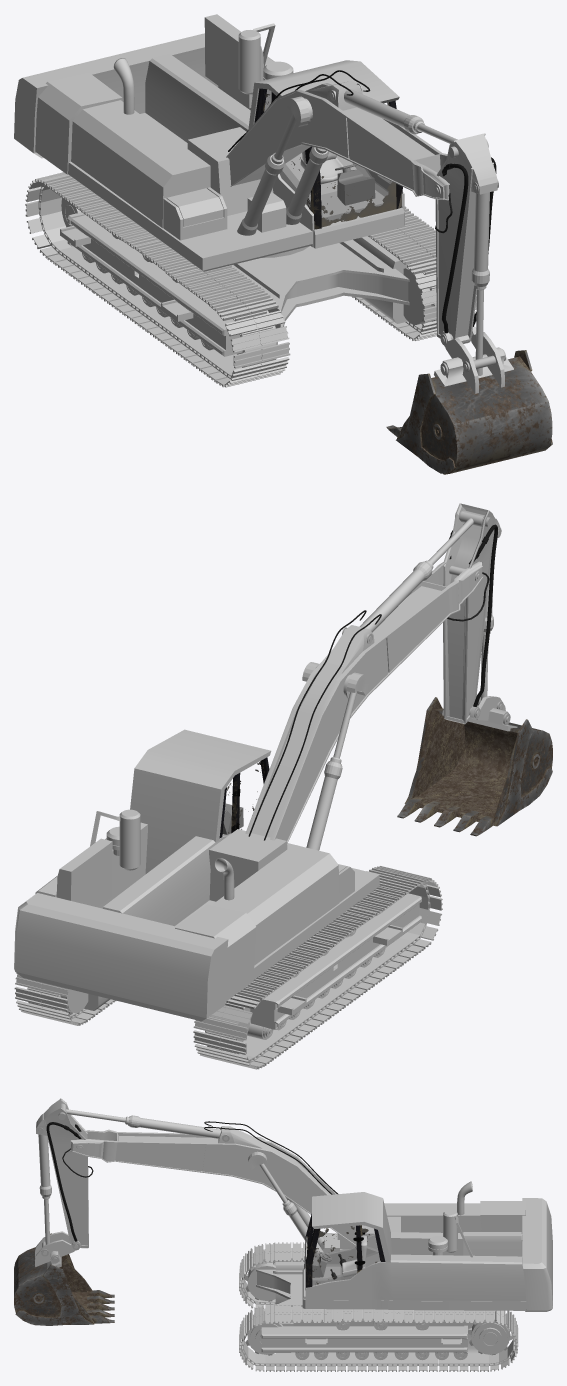
3 renders of one model, top to bottom at view 1: azimuth 30°, elevation 25°; view 2: azimuth 150°, elevation 25°; view 3: azimuth 270°, elevation 25°, orthographic. The views are drawn at different scales.
Visible parts, largest first — view 1: poclain:pCube93, poclain:tire1_pCylinder26, poclain:pCube14, poclain:pCube5, poclain:pCube97, poclain:polySurface828, poclain:polySurface834, poclain:tire1_pCylinder25, poclain:polySurface821, poclain:polySurface826, poclain:pCube20, poclain:pPlane1 (+18 smaller); view 2: poclain:tire1_pCylinder26, poclain:pCube97, poclain:pCube93, poclain:pCube5, poclain:pCube14, poclain:polySurface821, poclain:polySurface834, poclain:pCube20, poclain:polySurface826, poclain:tire1_pCylinder25, poclain:polySurface818, poclain:polySurface819 (+3 smaller); view 3: poclain:tire1_pCylinder25, poclain:pCube93, poclain:pCube5, poclain:pCube14, poclain:polySurface834, poclain:pCube97, poclain:polySurface821, poclain:tire1_pCylinder26, poclain:pCube20, poclain:polySurface828, poclain:pCube96, poclain:polySurface819 (+10 smaller).
Part boxes in pixels (x1=…): poclain:pCube93: x1=35, y1=54, x2=404, y2=248; poclain:tire1_pCylinder26: x1=25, y1=172, x2=290, y2=387; poclain:pCube14: x1=386, y1=350, x2=552, y2=474; poclain:pCube5: x1=226, y1=81, x2=449, y2=200; poclain:pCube97: x1=14, y1=33, x2=312, y2=271; poclain:polySurface828: x1=231, y1=239, x2=409, y2=328; poclain:polySurface834: x1=435, y1=133, x2=497, y2=343; poclain:tire1_pCylinder25: x1=352, y1=206, x2=476, y2=340; poclain:polySurface821: x1=248, y1=60, x2=399, y2=130; poclain:polySurface826: x1=187, y1=127, x2=273, y2=215; poclain:pCube20: x1=204, y1=14, x2=263, y2=108; poclain:pPlane1: x1=280, y1=153, x2=388, y2=221; poclain:tire1_pCylinder26: x1=193, y1=866, x2=442, y2=1069; poclain:pCube97: x1=14, y1=867, x2=379, y2=1021; poclain:pCube93: x1=35, y1=822, x2=354, y2=1001; poclain:pCube5: x1=245, y1=561, x2=482, y2=843; poclain:pCube14: x1=397, y1=697, x2=552, y2=836; poclain:polySurface821: x1=130, y1=729, x2=271, y2=873; poclain:polySurface834: x1=443, y1=503, x2=500, y2=724; poclain:pCube20: x1=56, y1=838, x2=112, y2=907; poclain:polySurface826: x1=209, y1=829, x2=287, y2=901; poclain:tire1_pCylinder25: x1=14, y1=973, x2=116, y2=1025; poclain:polySurface818: x1=306, y1=757, x2=342, y2=850; poclain:polySurface819: x1=359, y1=560, x2=433, y2=632; poclain:tire1_pCylinder25: x1=239, y1=1304, x2=518, y2=1371; poclain:pCube93: x1=302, y1=1201, x2=526, y2=1310; poclain:pCube5: x1=70, y1=1126, x2=363, y2=1245; poclain:pCube14: x1=14, y1=1233, x2=114, y2=1325; poclain:polySurface834: x1=36, y1=1098, x2=88, y2=1248; poclain:pCube97: x1=305, y1=1198, x2=552, y2=1311; poclain:polySurface821: x1=312, y1=1192, x2=392, y2=1262; poclain:tire1_pCylinder26: x1=239, y1=1242, x2=305, y2=1308; poclain:pCube20: x1=463, y1=1232, x2=521, y2=1256; poclain:polySurface828: x1=256, y1=1269, x2=302, y2=1311; poclain:pCube96: x1=304, y1=1213, x2=385, y2=1289; poclain:polySurface819: x1=125, y1=1115, x2=221, y2=1138.
Bounding box in the file's own units: 4.31 × 5.3 × 11.66.
